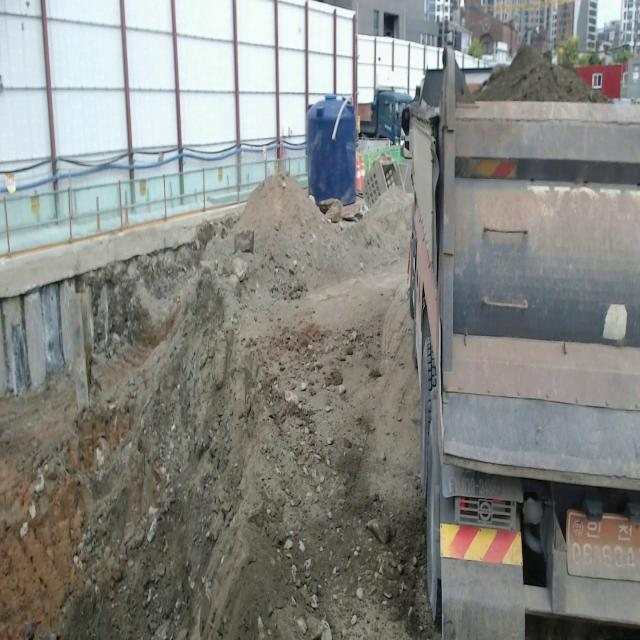red-sand: (0, 180, 437, 639), (475, 46, 610, 101)
